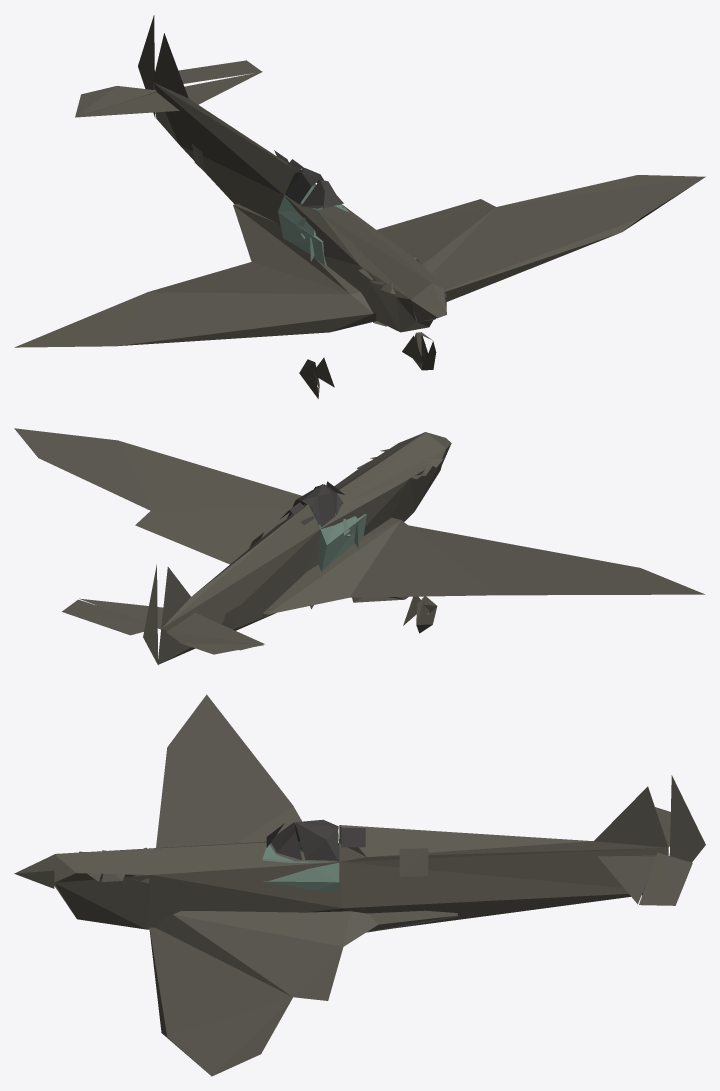
3 renders of one model, top to bottom at view 1: azimuth 30°, elevation 25°; view 2: azimuth 150°, elevation 25°; view 3: azimuth 270°, elevation 25°, orthographic. The views are drawn at different scales.
Visible parts, largest first — view 1: Object_126, Object_4; view 2: Object_126, Object_4; view 3: Object_126, Object_4.
Boxes of the visible parts, x1,y1,x2,y2 form: Object_126: (14, 15, 705, 398); Object_4: (278, 159, 349, 265); Object_126: (14, 428, 705, 665); Object_4: (280, 481, 366, 571); Object_126: (14, 694, 705, 1076); Object_4: (262, 819, 365, 891).
Size of the model in its own units: 10.03 by 2.97 by 7.68.
